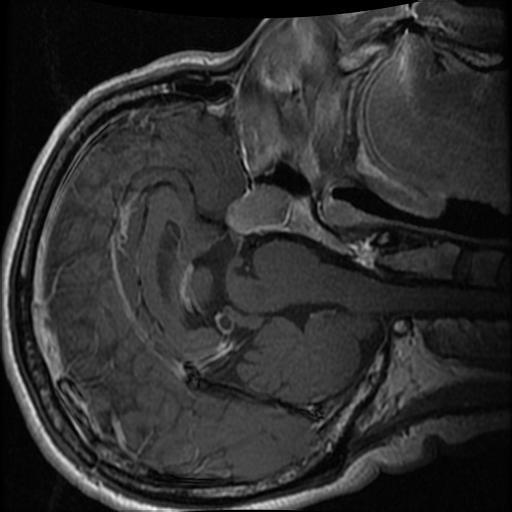pituitary tumour: (224, 184, 291, 235)
